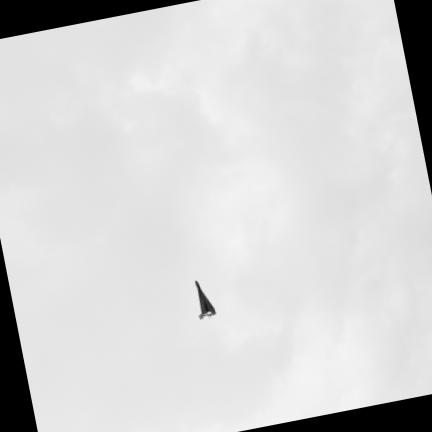Shahed: (195, 280, 215, 317)
